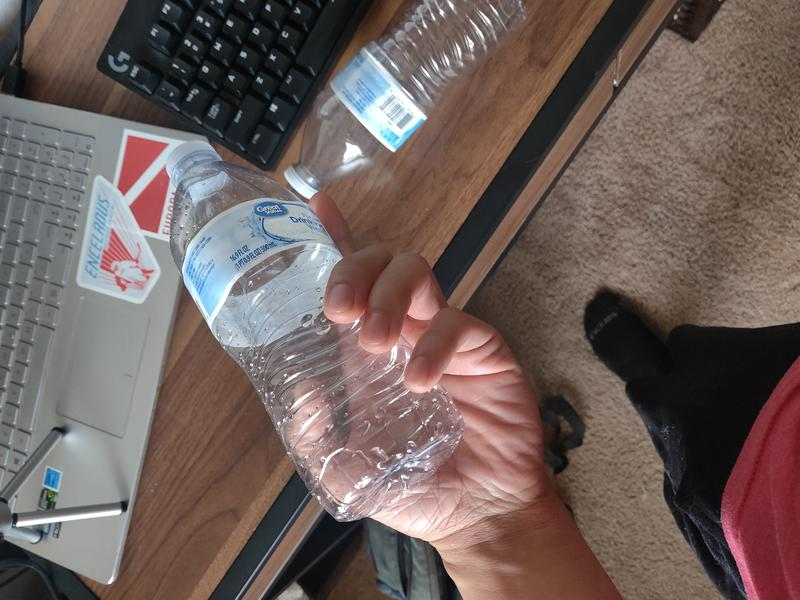bottle: (165, 140, 465, 524), (283, 1, 527, 199)
